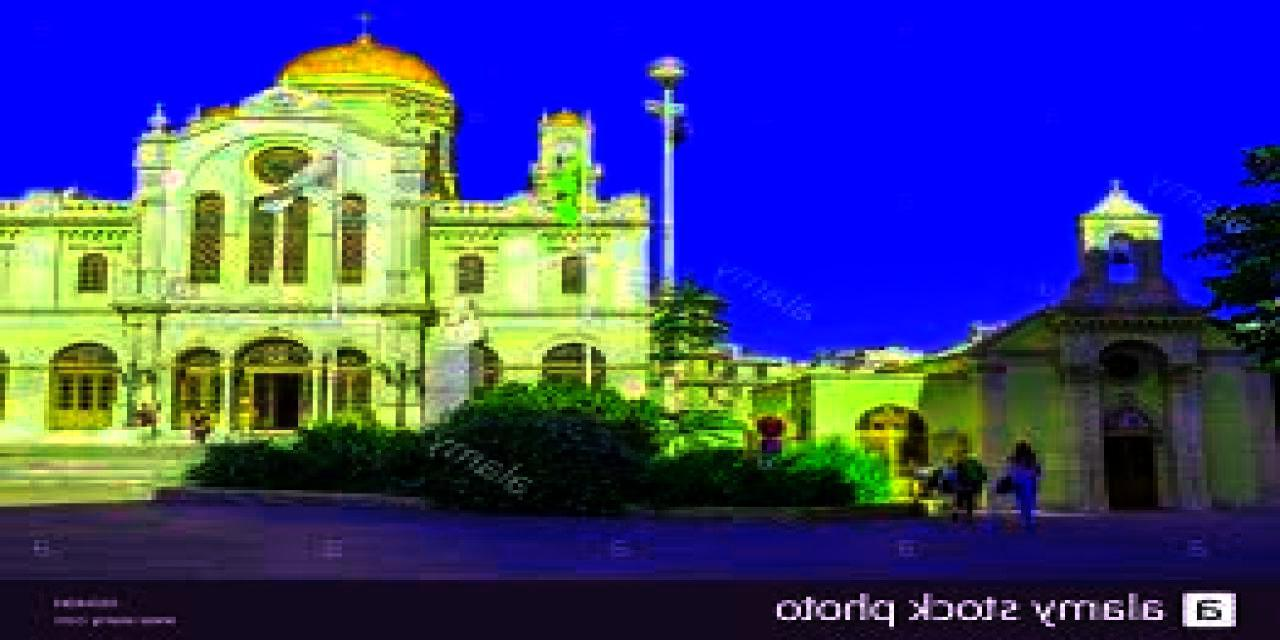Agios Minas: (1, 10, 1277, 503)
